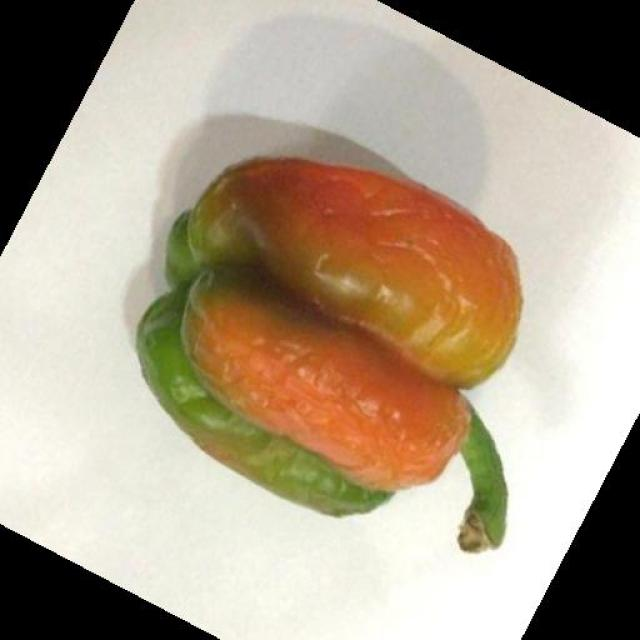Stale_Capsicum: (154, 151, 537, 581)
